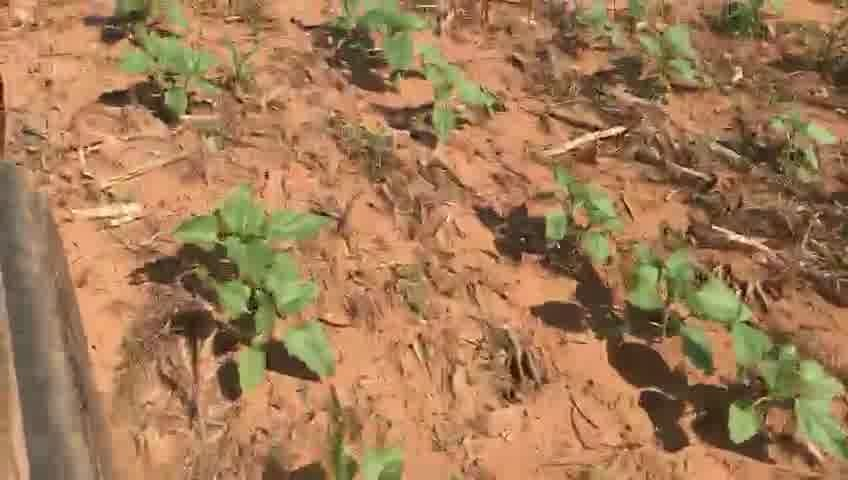sunflower: (685, 325, 835, 448), (203, 273, 338, 399), (183, 181, 310, 286), (117, 28, 206, 120), (628, 253, 737, 327), (544, 168, 621, 251), (575, 230, 662, 288), (284, 441, 410, 480), (424, 61, 486, 140), (353, 6, 424, 71), (645, 17, 704, 87), (766, 113, 834, 172)
